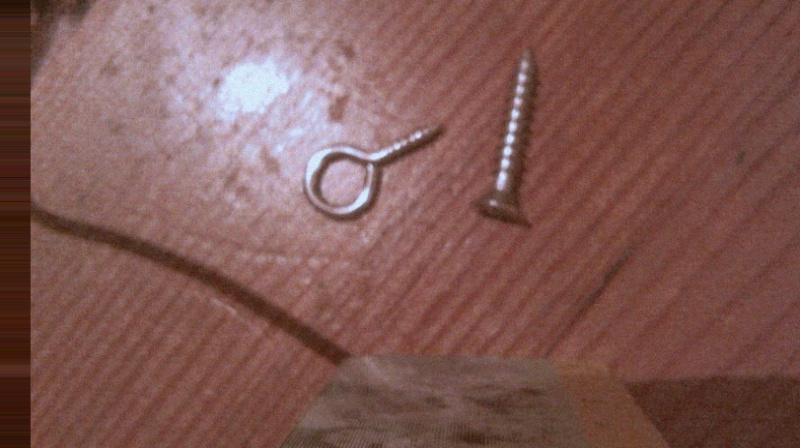O001: (301, 121, 453, 223)
S001: (472, 44, 542, 226)
